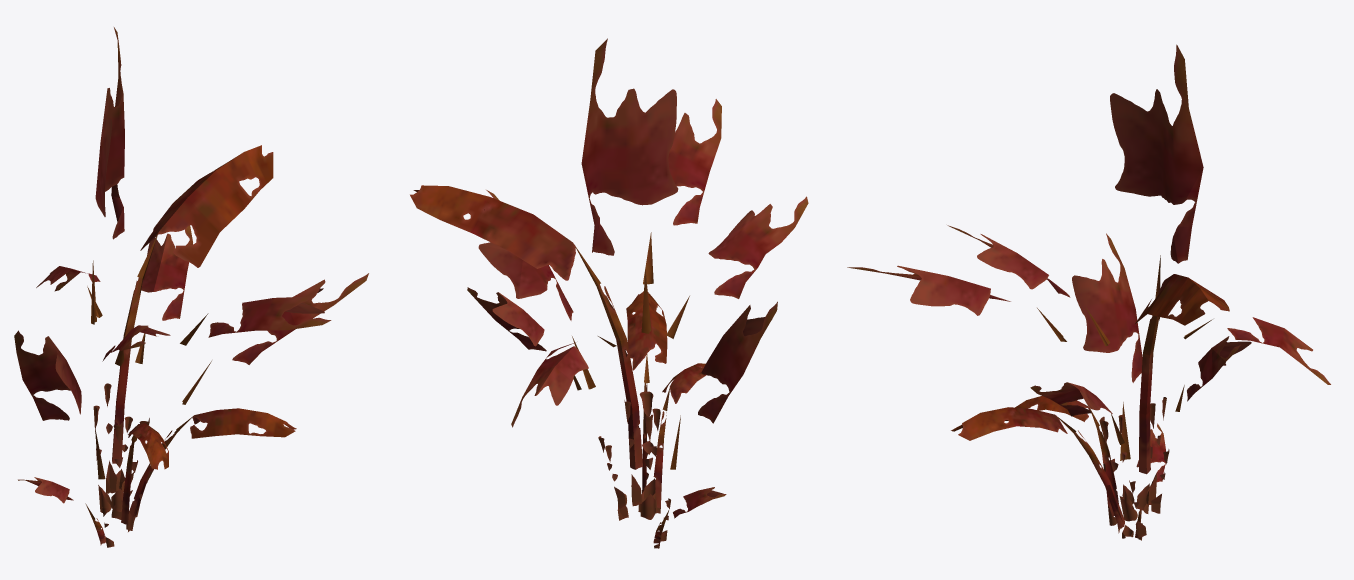
Rendered from City_bujian_40.fbx.
3 renders of one model, left to right at view 1: azimuth 30°, elevation 25°; view 2: azimuth 150°, elevation 25°; view 3: azimuth 270°, elevation 25°, orthographic. The views are drawn at different scales.
Parts seen in each view (by area): view 1: pasted__Mesh_0177; view 2: pasted__Mesh_0177; view 3: pasted__Mesh_0177.
Part boxes in pixels (x1,y1,x2,y2): pasted__Mesh_0177: (14, 27, 368, 547); pasted__Mesh_0177: (410, 38, 808, 548); pasted__Mesh_0177: (847, 44, 1330, 540).
Bounding box in the file's own units: 1.93 × 2.99 × 2.48.
